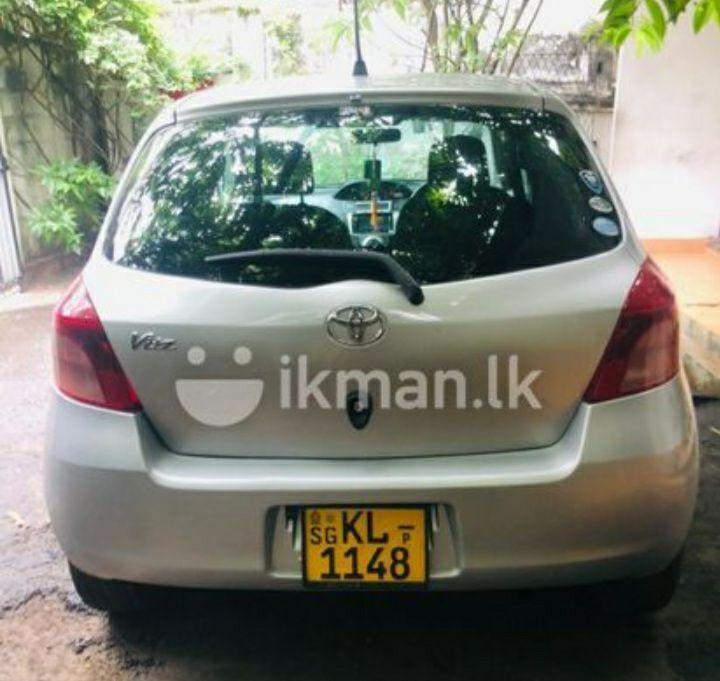license-plate: (303, 504, 424, 579)
